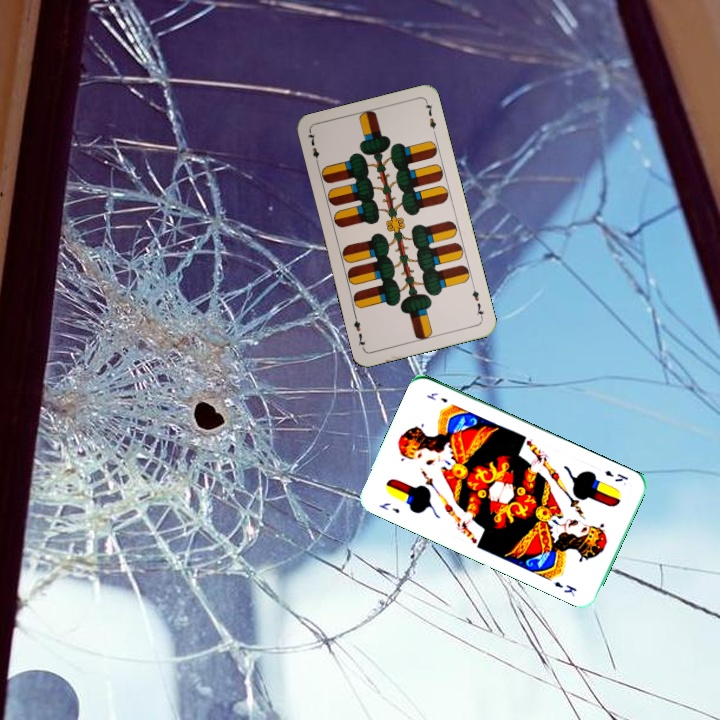E7: (304, 128, 322, 169), (468, 281, 486, 321)
EK: (601, 466, 631, 484), (375, 498, 402, 516)
